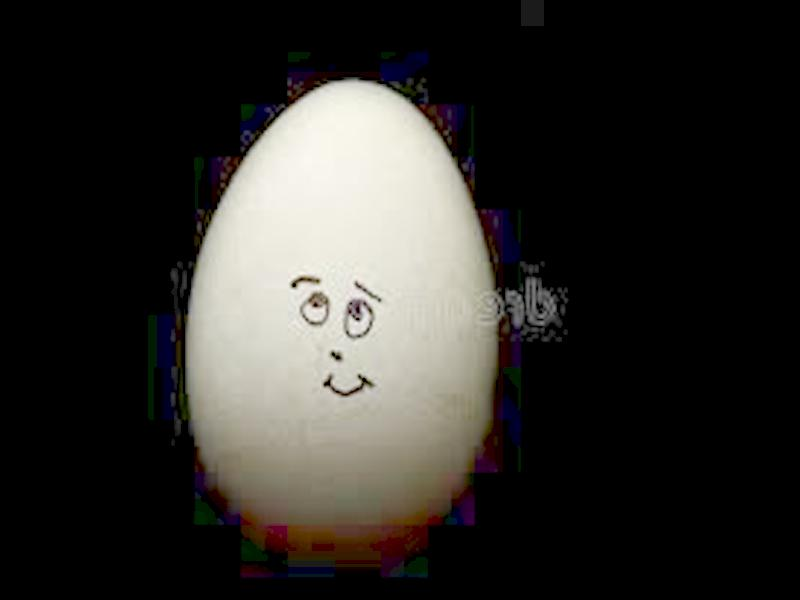Eggs: (188, 79, 494, 538)
